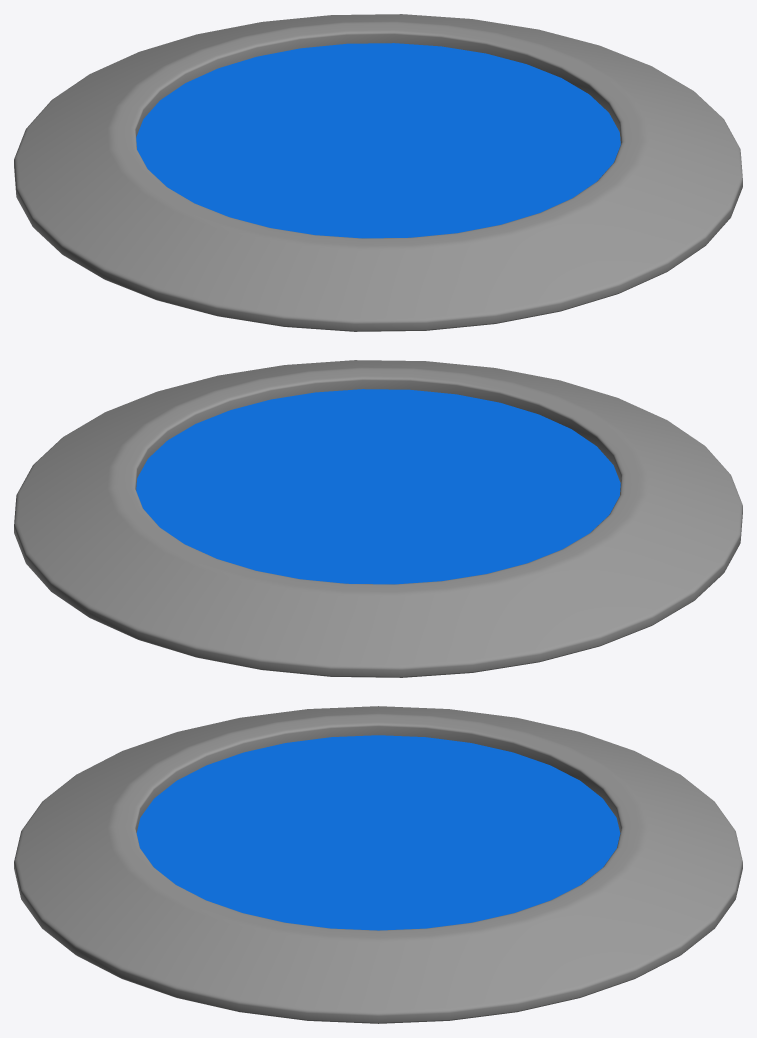
The model's file is Teleport.fbx.
3 renders of one model, top to bottom at view 1: azimuth 30°, elevation 25°; view 2: azimuth 150°, elevation 25°; view 3: azimuth 270°, elevation 25°, orthographic.
Parts seen in each view (by area): view 1: Teleport; view 2: Teleport; view 3: Teleport.
Boxes of the visible parts, bbox=[...] form: Teleport: bbox=[14, 14, 742, 331]; Teleport: bbox=[14, 360, 742, 677]; Teleport: bbox=[14, 706, 742, 1023].
Size of the model in its own units: 150 by 10 by 150.
